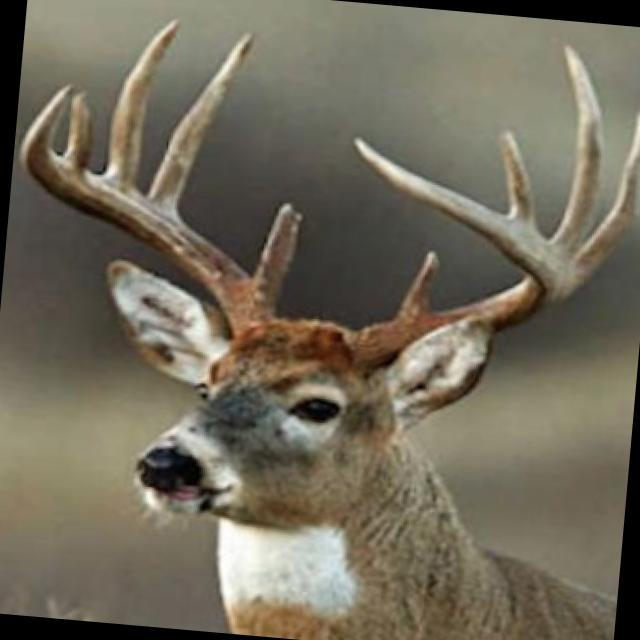L-F: (343, 133, 574, 376)
L-G1: (394, 249, 440, 321)
L-G2: (572, 110, 640, 290)
L-G3: (550, 40, 604, 261)
L-G4: (495, 126, 536, 229)
R-F: (19, 82, 277, 340)
R-G1: (252, 202, 303, 304)
R-G2: (146, 32, 256, 216)
R-G3: (105, 16, 183, 187)
R-G4: (62, 88, 94, 169)
